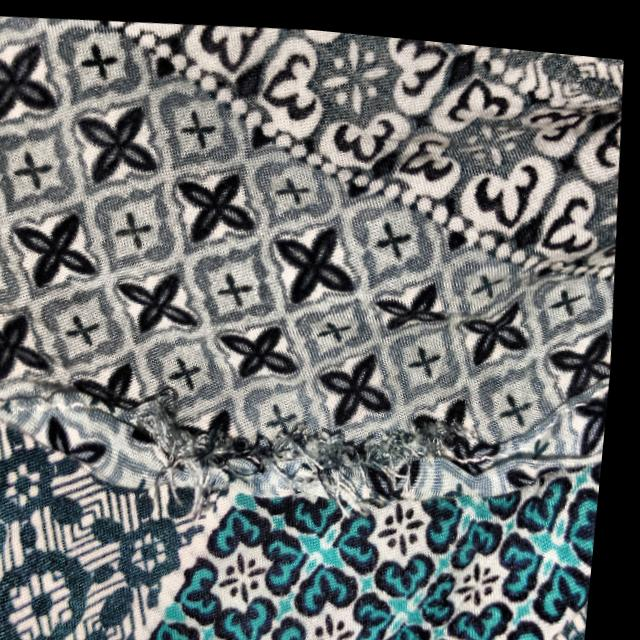Stitch: (79, 364, 497, 536)
